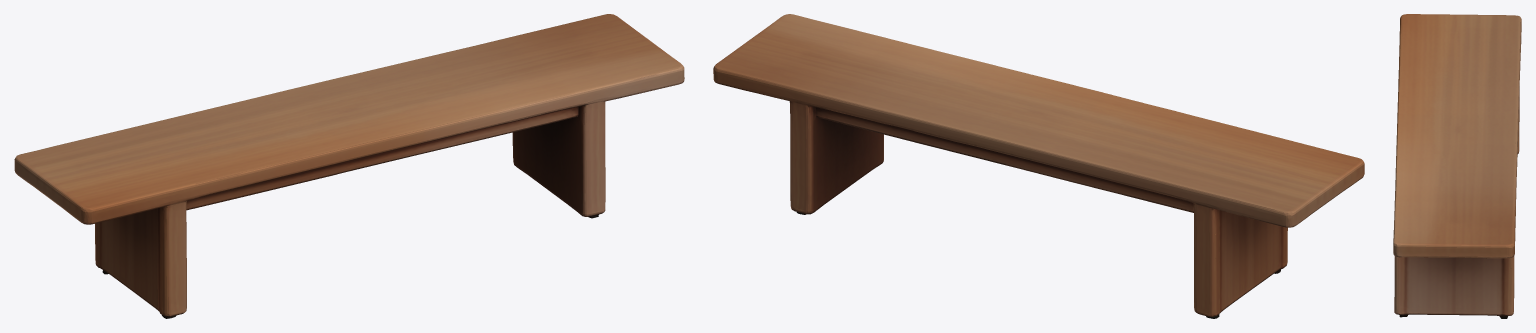
The model's file is 02_plant.glb.
3 renders of one model, left to right at view 1: azimuth 30°, elevation 25°; view 2: azimuth 150°, elevation 25°; view 3: azimuth 270°, elevation 25°, orthographic. The views are drawn at different scales.
Visible parts, largest first — view 1: geometry_0; view 2: geometry_0; view 3: geometry_0.
Boxes of the visible parts, x1,y1,x2,y2 form: geometry_0: (14,14,684,318); geometry_0: (713,14,1364,318); geometry_0: (1393,14,1521,318).
Bounding box in the file's own units: 0.897 × 0.1932 × 0.209.
Materials: 1 (1 with a texture image).
